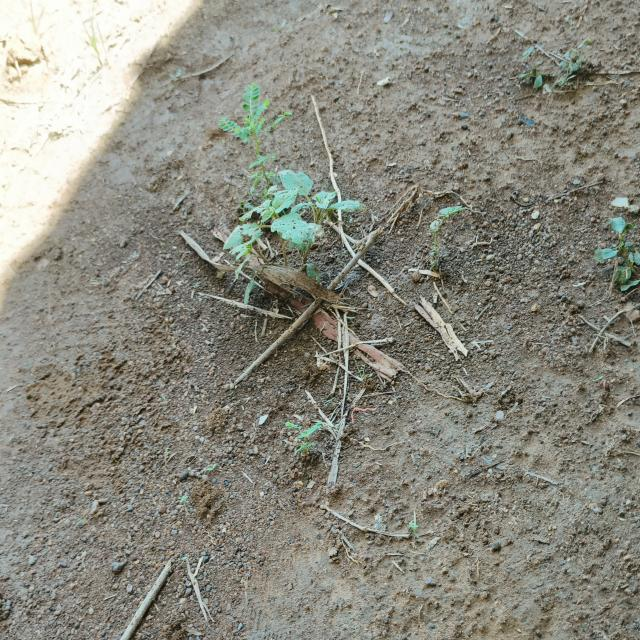weed: (218, 81, 362, 303)
